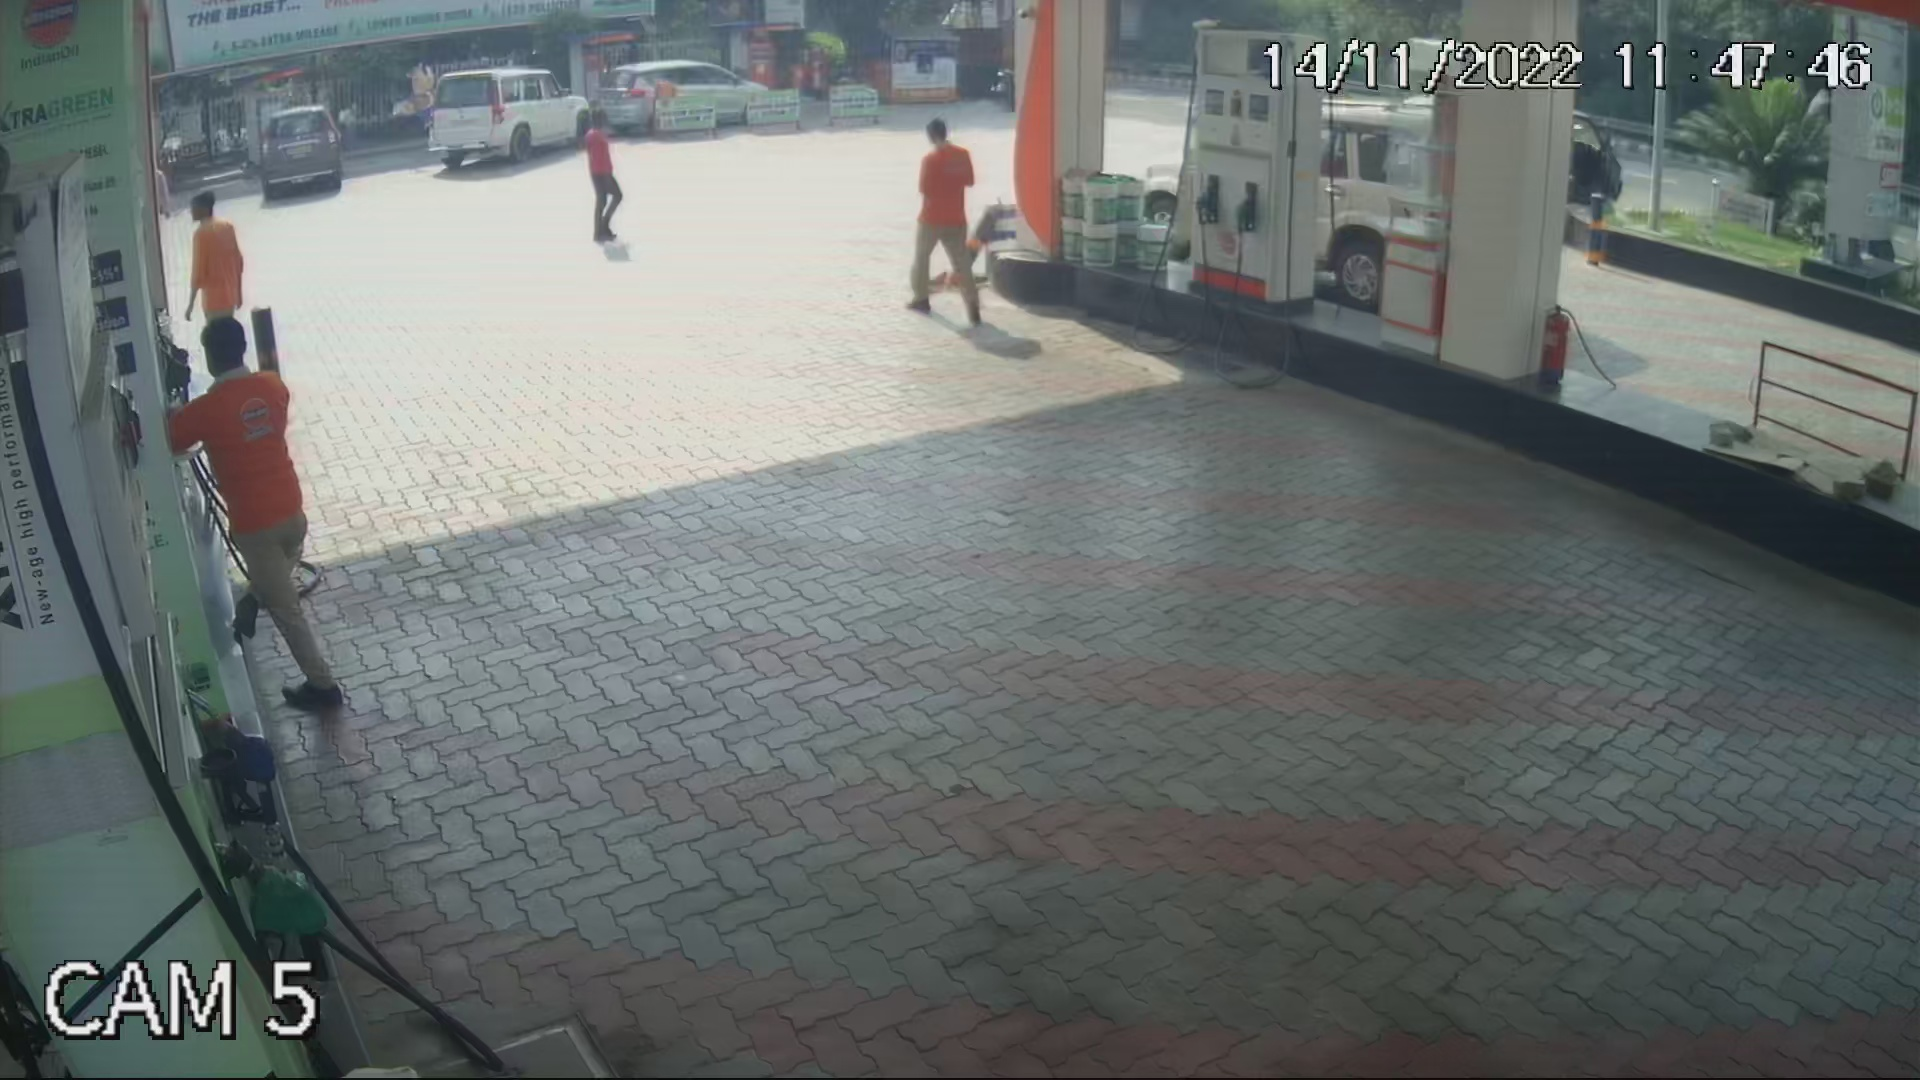Car: (1172, 58, 1606, 315), (417, 49, 604, 177), (592, 40, 771, 142), (244, 86, 360, 204), (1568, 102, 1622, 203)
Others: (171, 316, 339, 702), (907, 116, 986, 332)
